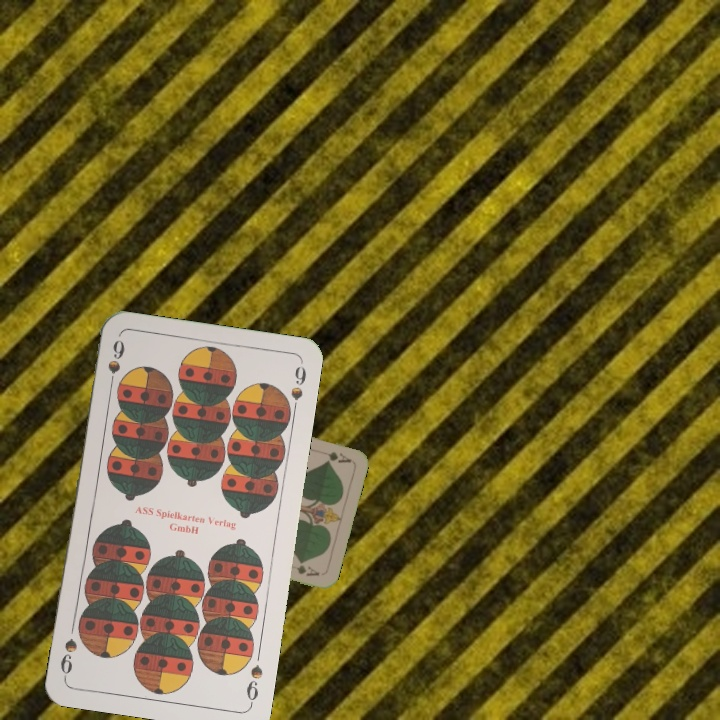GA: (324, 448, 353, 466)
S9: (103, 335, 127, 394), (242, 660, 266, 708)
